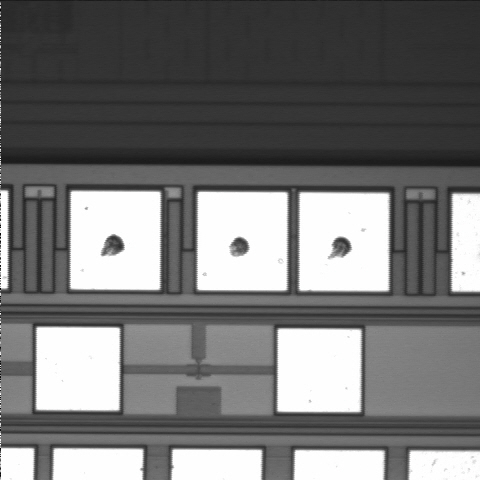pad: (299, 193, 389, 291), (71, 191, 160, 290), (198, 192, 287, 290), (36, 327, 120, 410), (278, 329, 361, 412)
